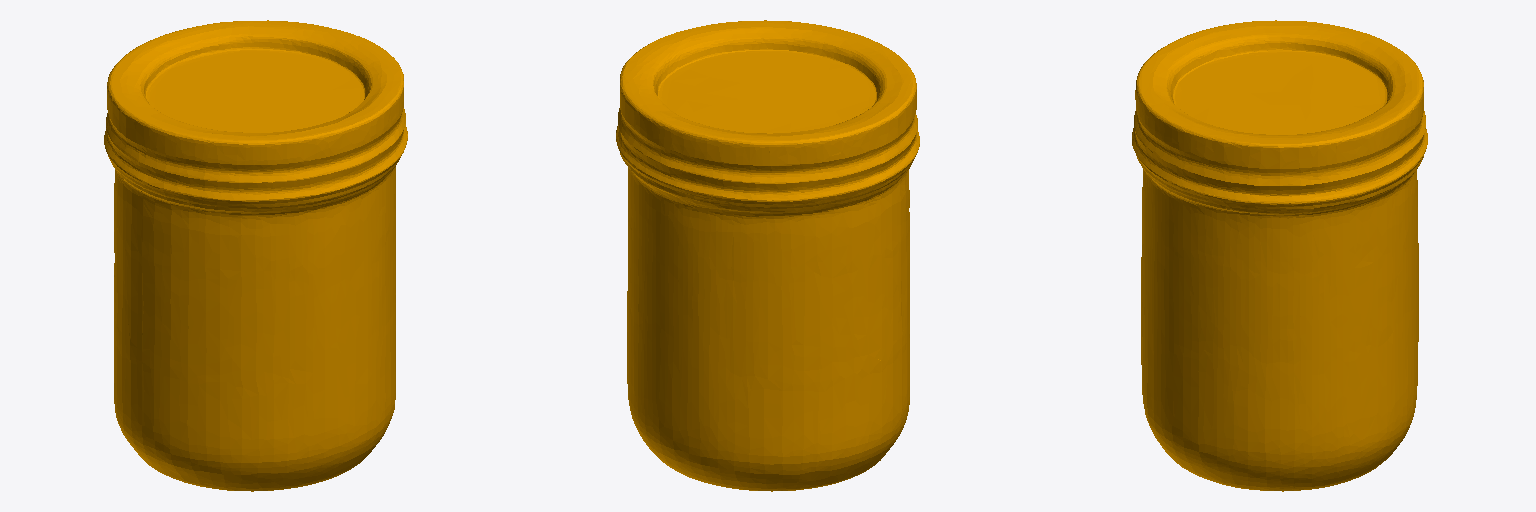
robot.urdf — sample:
<?xml version="1.0" ?>
<robot name="sample">
   <link name="sample">
      <visual>
         <origin xyz="0 0 0" rpy="1.5708 0.0 0.0"/>
         <geometry>
            <mesh filename="mesh/sample.obj" scale="1.0 1.0 1.0"/>
         </geometry>
      </visual>
      <collision>
         <origin xyz="0 0 0" rpy="1.5708 0.0 0.0"/>
         <geometry>
            <mesh filename="mesh/sample_collision.obj" scale="1.0 1.0 1.0"/>
         </geometry>
         <gazebo>
            <mu1>0.60</mu1>
            <mu2>0.50</mu2>
         </gazebo>
      </collision>
      <inertial>
         <mass value="0.5000"/>
         <origin xyz="0 0 0"/>
         <inertia ixx="1.0" ixy="0.0" ixz="0.0" iyy="1.0" iyz="0.0" izz="1.0"/>
      </inertial>
      <extra_info>
         <scale>0.135000</scale>
         <version>v0.1.7</version>
         <category>canned food</category>
         <description>glass jar with golden lid and orange contents</description>
         <min_height>0.12</min_height>
         <max_height>0.15</max_height>
         <real_height>0.135</real_height>
         <min_mass>0.4</min_mass>
         <max_mass>0.6</max_mass>
         <color>orange</color>
         <rgba>[1.0, 0.6, 0.0, 1.0]</rgba>
         <generate_time>20260615171703</generate_time>
         <gs_model>mesh/sample_gs.ply</gs_model>
      </extra_info>
   </link>
   <custom_data>
      <quality>
         <MeshGeoChecker>YES</MeshGeoChecker>
         <ImageSegChecker>NO, object is not centered and background is distorted with horizontal stripes.</ImageSegChecker>
         <ImageAestheticChecker>4.883772015571594</ImageAestheticChecker>
         <overall>NO</overall>
      </quality>
   </custom_data>
</robot>

--- What the picture shows (computed from the rendered views, not written in the file) ---
Views: 3 orthographic renders of the robot side by side, from view 1: azimuth 30°, elevation 25°; view 2: azimuth 150°, elevation 25°; view 3: azimuth 270°, elevation 25°.
Robot: sample — 1 links, 0 joints (none); root link sample; default pose: all joints at 0.
Links seen in each view (by area): view 1: sample; view 2: sample; view 3: sample.
Boxes of the visible links, x1=… form: sample: x1=104, y1=20, x2=407, y2=491; sample: x1=616, y1=20, x2=919, y2=491; sample: x1=1132, y1=20, x2=1427, y2=491.
Size in the robot's own frame: 0.1034 by 0.1002 by 0.135 metres.
Meshes: 1 distinct files referenced, 1 mesh visuals loaded (1 OBJ).
